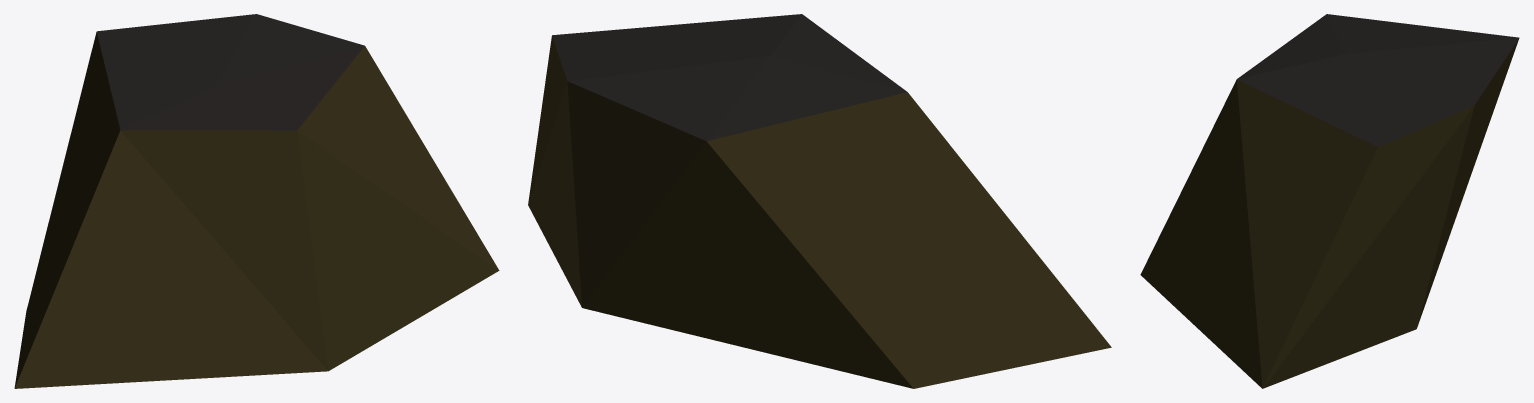
File: obj_tree_stump_18_0.obj
3 views of the same model, side by side, from view 1: azimuth 30°, elevation 25°; view 2: azimuth 150°, elevation 25°; view 3: azimuth 270°, elevation 25° (orthographic). The views are drawn at different scales.
Bounding box in the file's own units: 0.6875 × 0.2891 × 0.4609.
